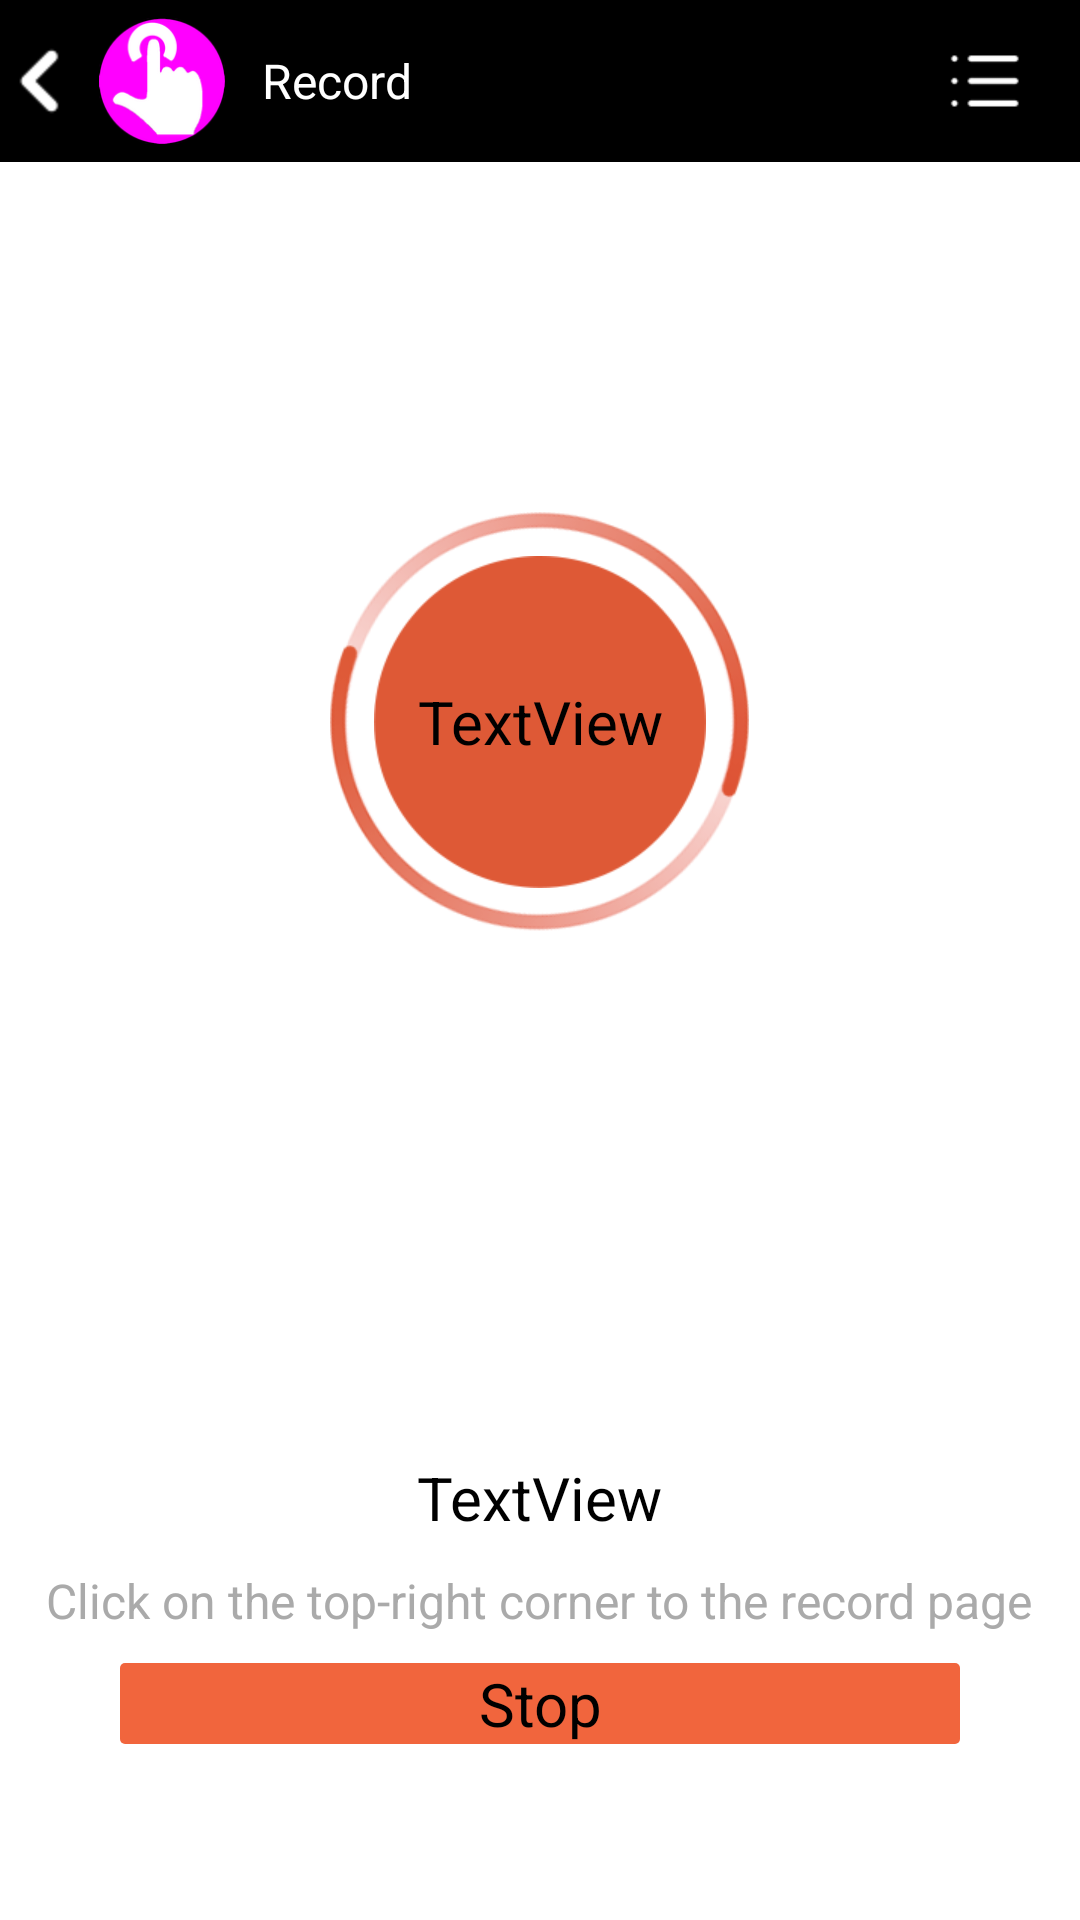

Screen size 1080px×1920px. Icon name, then its box in pixels as (x1, y1, x2, y2):
smartkey back: (20, 49, 59, 113)
